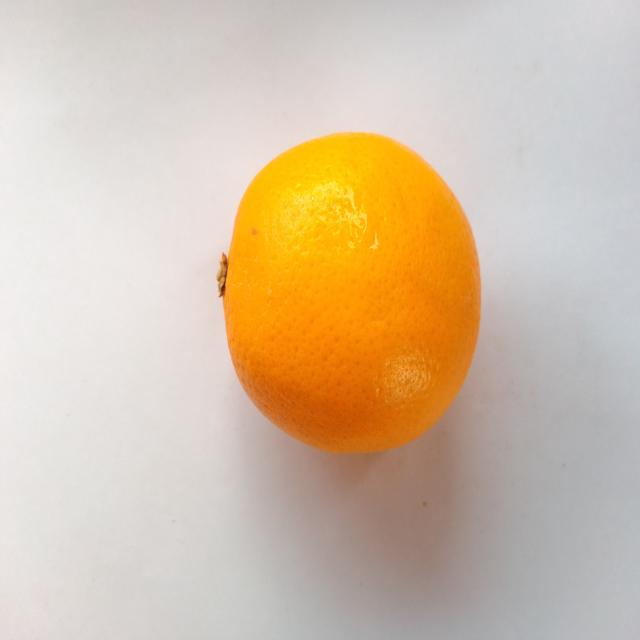orange: (223, 134, 480, 452)
